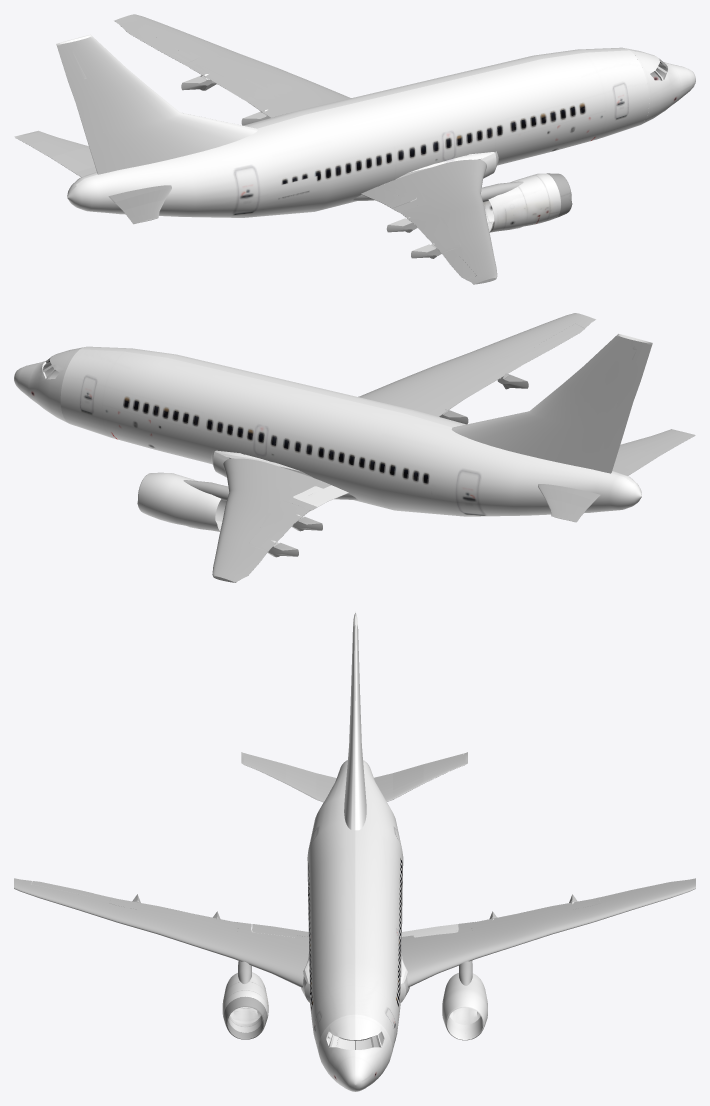
3 views of the same model, one above another, from view 1: azimuth 30°, elevation 25°; view 2: azimuth 150°, elevation 25°; view 3: azimuth 270°, elevation 25° (orthographic). The views are drawn at different scales.
Visible parts, largest first — view 1: Cylinder007, Cylinder002, rightwing, leftwing, Cylinder001, horizontalstab, Airfoil004, Airfoil005, left_elevator, leftAileron, Airfoil008, Cylinder003; view 2: Cylinder007, Cylinder002, leftwing, rightwing, Cylinder001, horizontalstab, Airfoil005, Airfoil004, right_elevator, rightAileron, Airfoil002, Cylinder005; view 3: Cylinder007, Cylinder002, rightwing, leftwing, horizontalstab, Airfoil005, Airfoil004.
Boxes of the visible parts, left/top/right/bottom form: Cylinder007: left=67, top=47, right=695, bottom=217; Cylinder002: left=72, top=34, right=572, bottom=232; rightwing: left=379, top=159, right=497, bottom=284; leftwing: left=114, top=14, right=351, bottom=109; Cylinder001: left=56, top=39, right=116, bottom=174; horizontalstab: left=14, top=130, right=171, bottom=224; Airfoil004: left=184, top=57, right=300, bottom=117; Airfoil005: left=400, top=202, right=460, bottom=253; left_elevator: left=18, top=137, right=95, bottom=177; leftAileron: left=125, top=25, right=178, bottom=56; Airfoil008: left=361, top=186, right=410, bottom=208; Cylinder003: left=481, top=181, right=523, bottom=202; Cylinder007: left=14, top=346, right=641, bottom=516; Cylinder002: left=137, top=333, right=636, bottom=531; leftwing: left=212, top=458, right=331, bottom=582; rightwing: left=358, top=313, right=595, bottom=408; Cylinder001: left=593, top=338, right=652, bottom=473; horizontalstab: left=538, top=429, right=695, bottom=522; Airfoil005: left=408, top=355, right=525, bottom=416; Airfoil004: left=249, top=500, right=310, bottom=551; right_elevator: left=613, top=435, right=691, bottom=475; rightAileron: left=530, top=324, right=584, bottom=355; Airfoil002: left=299, top=485, right=348, bottom=506; Cylinder005: left=183, top=480, right=229, bottom=500; Cylinder007: left=301, top=760, right=409, bottom=1091; Cylinder002: left=222, top=618, right=487, bottom=1040; rightwing: left=14, top=878, right=308, bottom=987; leftwing: left=401, top=878, right=695, bottom=987; horizontalstab: left=241, top=752, right=467, bottom=802; Airfoil005: left=109, top=897, right=238, bottom=931; Airfoil004: left=471, top=897, right=600, bottom=931.
Bounding box in the file's own units: 43.4 × 15.43 × 42.4.
